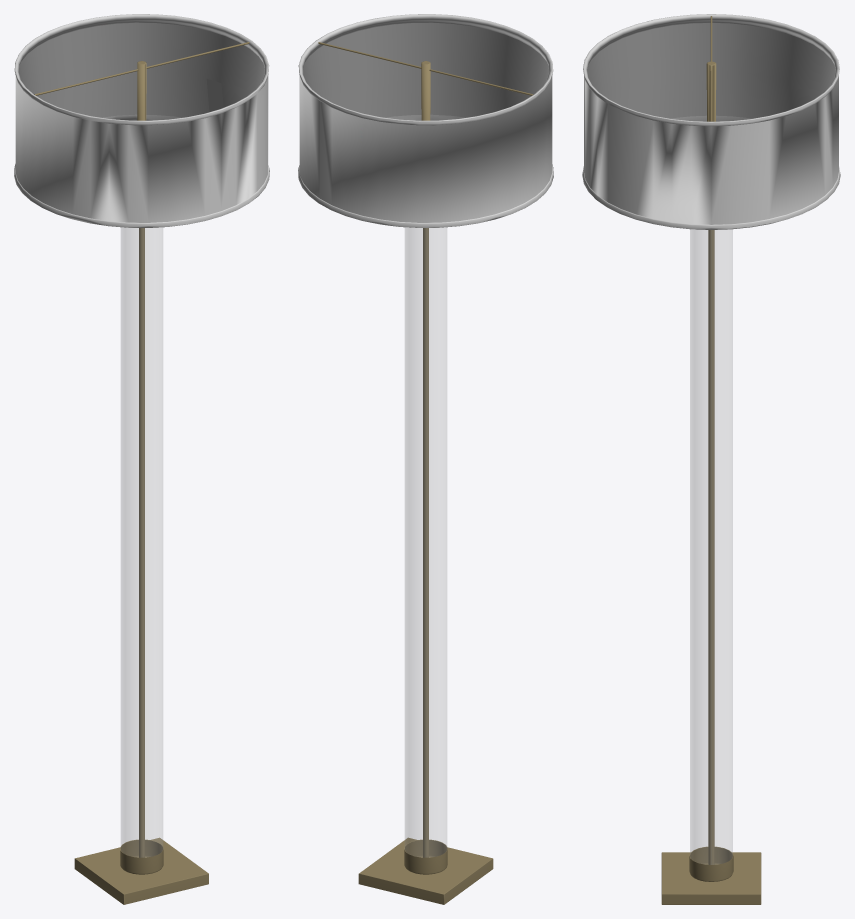
The model's file is B07374SBFN.glb.
The picture shows the model from 3 angles, left to right: view 1: azimuth 30°, elevation 25°; view 2: azimuth 150°, elevation 25°; view 3: azimuth 270°, elevation 25°; orthographic projection.
Visible parts, largest first — view 1: "$AHHJBIAABPBAAAAAICBAAAAAAAAAHLDCICEP"; view 2: "$AHHJBIAABPBAAAAAICBAAAAAAAAAHLDCICEP"; view 3: "$AHHJBIAABPBAAAAAICBAAAAAAAAAHLDCICEP".
Part boxes in pixels (bbox=[...]): "$AHHJBIAABPBAAAAAICBAAAAAAAAAHLDCICEP": bbox=[14, 14, 269, 904]; "$AHHJBIAABPBAAAAAICBAAAAAAAAAHLDCICEP": bbox=[298, 14, 553, 904]; "$AHHJBIAABPBAAAAAICBAAAAAAAAAHLDCICEP": bbox=[582, 14, 840, 904].
Size of the model in its own units: 0.4197 by 1.48 by 0.4198.
Materials: 1 (1 with a texture image).
